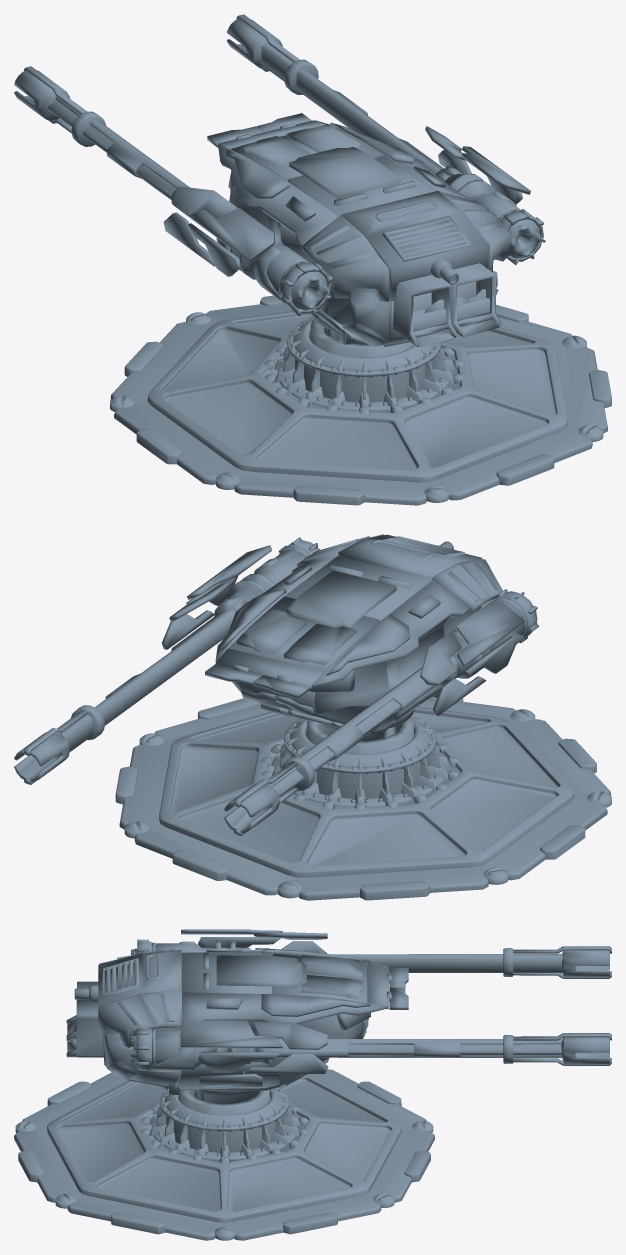
Rendered from turret.glb.
3 views of the same model, one above another, from view 1: azimuth 30°, elevation 25°; view 2: azimuth 150°, elevation 25°; view 3: azimuth 270°, elevation 25° (orthographic). The views are drawn at different scales.
Visible parts, largest first — view 1: base_Object008.005, head_Mesh.007, gun_Mesh.013, tube_b_Object008.003; view 2: base_Object008.005, head_Mesh.007, gun_Mesh.013, tube_b_Object008.003, tube_a_Object008.002; view 3: base_Object008.005, head_Mesh.007, gun_Mesh.013, tube_b_Object008.003, tube_a_Object008.002.
Part boxes in pixels (x1,y1,x2,y2): base_Object008.005: (110, 295, 611, 505); head_Mesh.007: (207, 113, 509, 347); gun_Mesh.013: (14, 14, 545, 316); tube_b_Object008.003: (310, 320, 413, 357); base_Object008.005: (115, 697, 611, 900); head_Mesh.007: (205, 534, 502, 735); gun_Mesh.013: (14, 537, 539, 835); tube_b_Object008.003: (306, 717, 413, 754); tube_a_Object008.002: (319, 710, 414, 741); base_Object008.005: (14, 1069, 434, 1240); head_Mesh.007: (66, 949, 408, 1094); gun_Mesh.013: (131, 929, 611, 1074); tube_b_Object008.003: (178, 1090, 269, 1115); tube_a_Object008.002: (190, 1090, 258, 1103).
Bounding box in the file's own units: 10.27 × 5.01 × 14.62.
